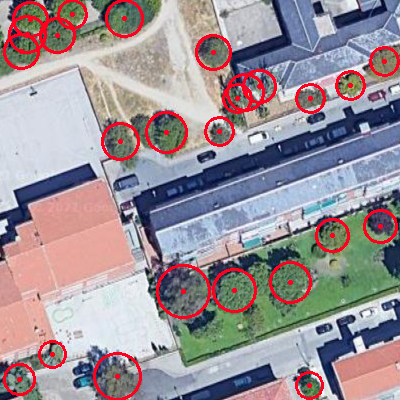tree: (149, 266, 215, 326), (270, 253, 315, 311), (212, 263, 272, 306), (94, 357, 145, 400), (100, 1, 159, 36), (102, 116, 137, 166), (155, 113, 190, 159), (316, 215, 352, 250), (196, 29, 229, 66), (10, 1, 50, 31), (8, 29, 44, 62), (364, 202, 397, 238), (294, 367, 329, 400), (6, 370, 43, 400), (46, 1, 92, 25), (131, 113, 157, 150), (44, 24, 75, 55), (337, 70, 364, 99), (208, 120, 230, 145)
